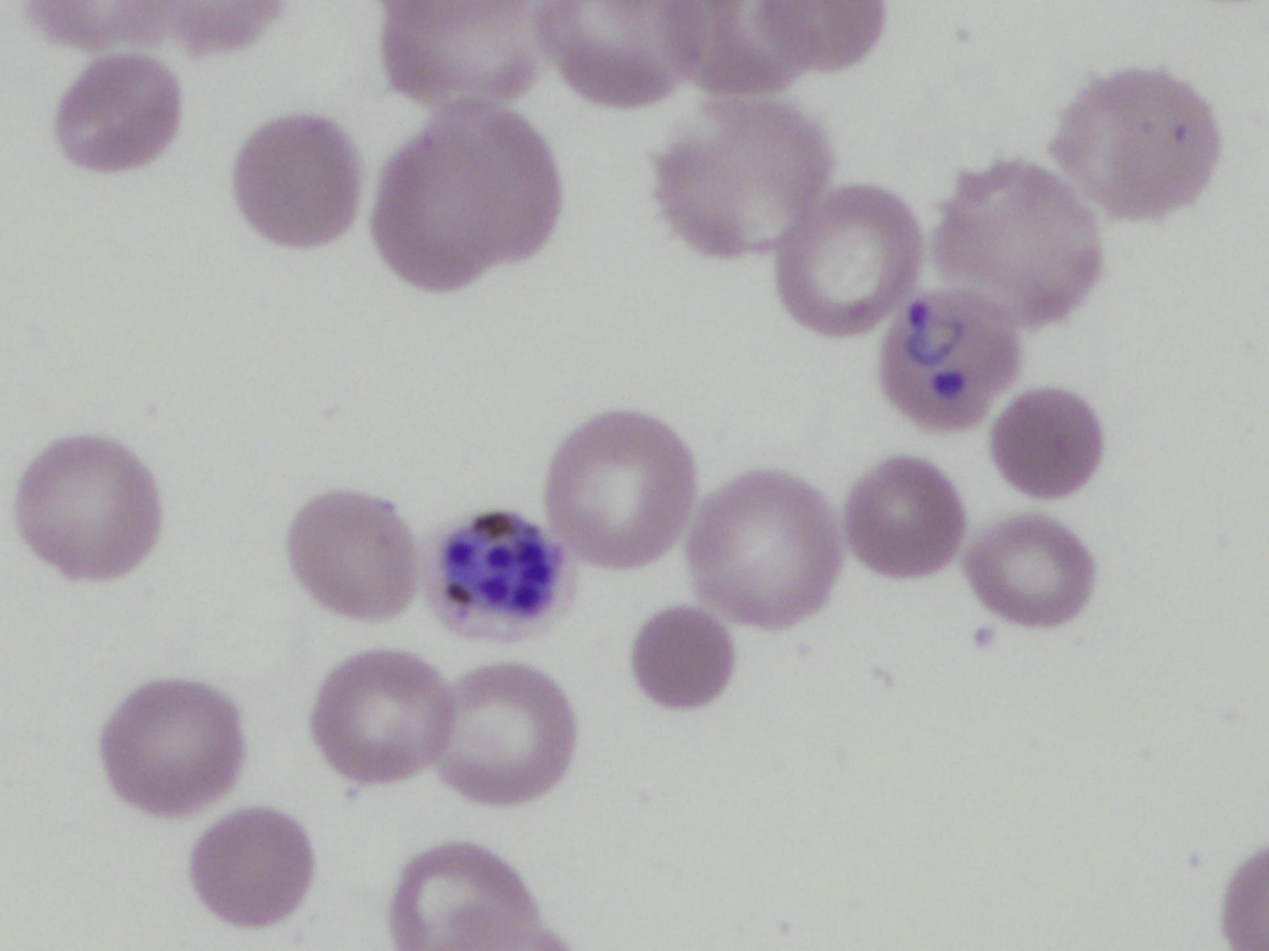Infected: (425, 503, 583, 641), (878, 290, 1018, 429)
Uninfected: (373, 112, 560, 287), (657, 103, 830, 255), (935, 167, 1095, 320), (1055, 69, 1216, 216), (686, 473, 836, 624), (544, 415, 692, 565), (427, 658, 576, 804), (13, 435, 160, 581), (778, 187, 918, 331), (97, 677, 243, 815), (312, 651, 452, 783), (390, 845, 557, 950), (285, 491, 419, 621), (233, 112, 358, 245), (380, 2, 542, 103), (962, 512, 1097, 629), (683, 2, 842, 97), (192, 808, 316, 928), (844, 456, 963, 577), (55, 55, 180, 170), (544, 2, 676, 105), (988, 387, 1103, 497), (632, 608, 734, 708)
